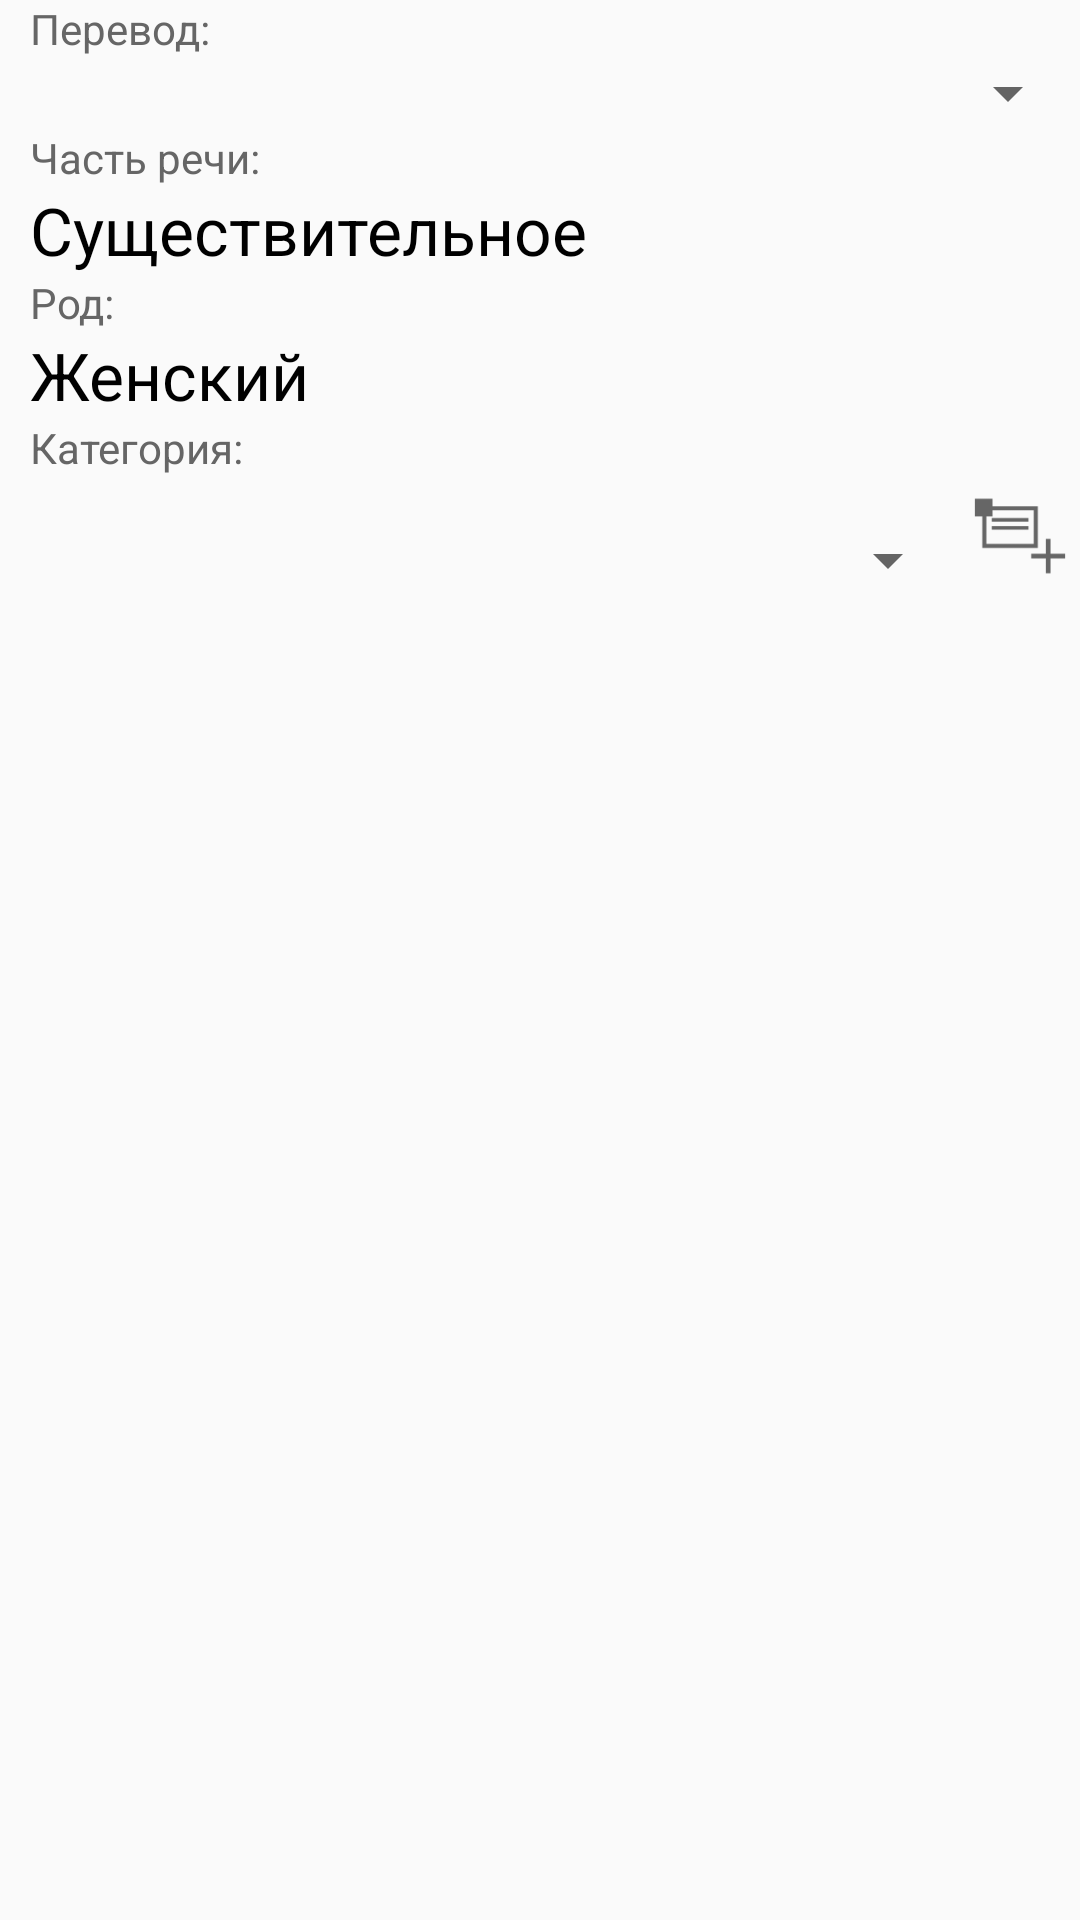

Where to tap for icons on this 1080w x 1920h app screen, as (x=x, y=y):
add category: (x=1020, y=536)
